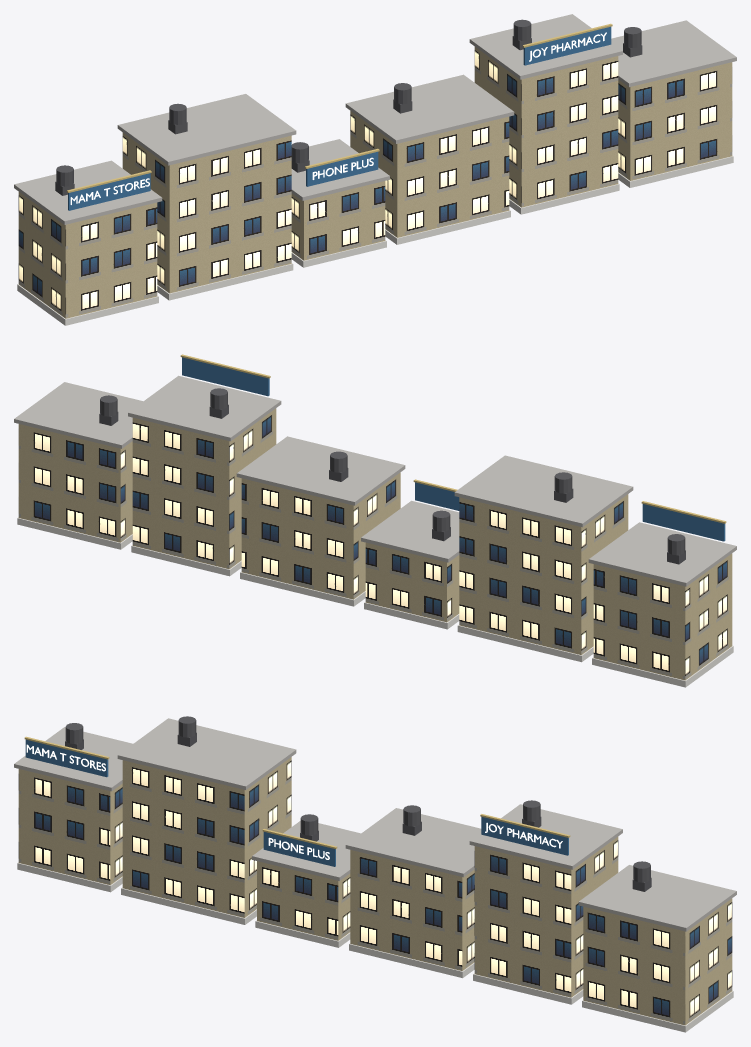
File: street-blocks.glb
3 renders of one model, top to bottom at view 1: azimuth 30°, elevation 25°; view 2: azimuth 150°, elevation 25°; view 3: azimuth 330°, elevation 25°, orthographic.
Visible parts, largest first — view 1: FacadeLit, Roof, Trim, SignBoard, ChairMetal, WhiteText, Gold; view 2: FacadeLit, Roof, Trim, SignBoard, ChairMetal, Gold; view 3: FacadeLit, Roof, Trim, SignBoard, ChairMetal, WhiteText, Gold.
Part boxes in pixels (x1,y1,x2,y2): FacadeLit: (18, 47, 732, 318); Roof: (14, 14, 736, 224); Trim: (17, 155, 733, 325); SignBoard: (68, 26, 611, 210); ChairMetal: (55, 19, 642, 195); WhiteText: (70, 32, 606, 204); Gold: (66, 23, 612, 192); FacadeLit: (18, 408, 732, 680); Roof: (14, 375, 736, 586); Trim: (17, 517, 733, 687); SignBoard: (182, 357, 725, 541); ChairMetal: (99, 388, 685, 564); Gold: (180, 354, 726, 523); FacadeLit: (18, 757, 732, 1025); Roof: (14, 718, 736, 931); Trim: (17, 862, 733, 1032); SignBoard: (25, 739, 568, 866); ChairMetal: (65, 716, 651, 891); WhiteText: (26, 744, 562, 859); Gold: (24, 736, 570, 849).
Size of the model in its own units: 66.1 by 15.55 by 8.6.
Materials: 7 (1 with a texture image).
